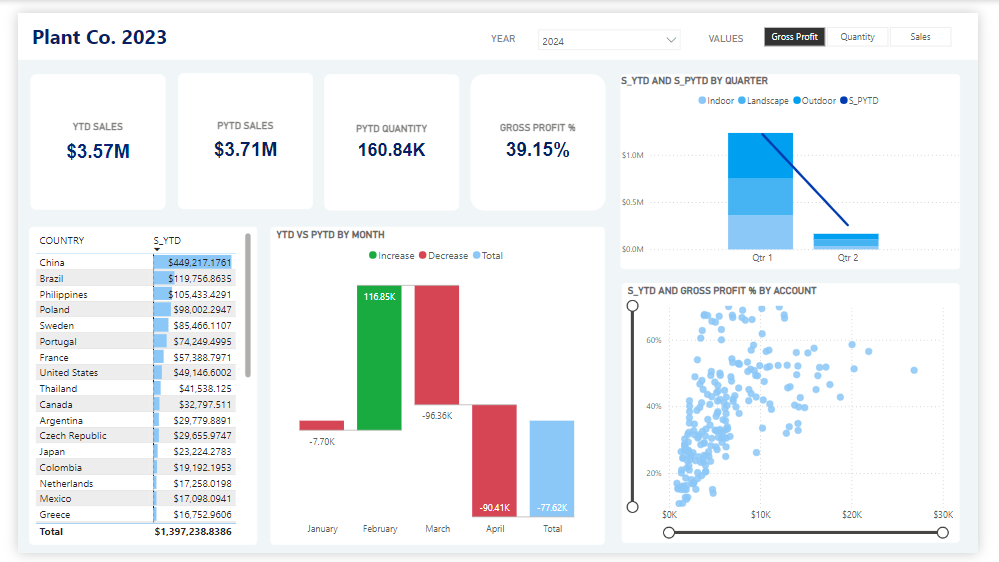

The page's visual inventory and layout, read from the dashboard file:
{"tool":"powerbi","page":{"name":"Page 1","canvas":[1280,720],"ordinal":0},"visuals":[{"type":"shape","box":[0,0,1280,62.5],"z":0},{"type":"cardVisual","fields":{"Data":["_Measure.YTD_Sales"]},"box":[17,81,180,181],"z":1000},{"type":"cardVisual","fields":{"Data":["_Measure.PYTD_Sales"]},"box":[212.6,80,180,181.2],"z":2000},{"type":"cardVisual","fields":{"Data":["_Measure.PYTD_Quantity"]},"box":[408.2,81.2,180,181.2],"z":3000},{"type":"slicer","fields":{"Values":["dDate.Date.Variation.Date Hierarchy.Year"]},"box":[683,11,210,42],"z":4000},{"type":"slicer","fields":{"Values":["Slr_Values.Values"]},"box":[968.3,11.7,300,40],"z":5000},{"type":"tableEx","title":"S_YTD BY COUNTRY","fields":{"Values":["dAccounts.country2","_Measure.S_YTD"]},"box":[15.7,284.3,304.3,424.3],"z":6000},{"type":"waterfallChart","title":"YTD VS PYTD BY MONTH","fields":{"Y":["_Measure.YTD vs PYTD"],"Category":["dDate.Date.Variation.Date Hierarchy.Month"]},"box":[337.1,285.7,445.7,424.3],"z":7000},{"type":"lineStackedColumnComboChart","title":"S_YTD AND S_PYTD BY QUARTER","fields":{"Category":["dDate.Date.Variation.Date Hierarchy.Quarter","dDate.Date.Variation.Date Hierarchy.Month"],"Y":["_Measure.S_YTD"],"Y2":["_Measure.S_PYTD"],"Series":["dPlant_Hierarchy.Produt_Type"]},"box":[803.6,81.8,452.7,260],"z":8000},{"type":"cardVisual","fields":{"Data":["_Measure.GP%"]},"box":[603.8,81.2,180,181.2],"z":9000},{"type":"scatterChart","title":"S_YTD AND GROSS PROFIT % BY ACCOUNT","fields":{"X":["_Measure.S_YTD"],"Y":["_Measure.GP%"],"Category":["dAccounts.Account"]},"box":[805,360,450,346.7],"z":10000},{"type":"textbox","box":[620,20,54,36],"z":11000},{"type":"textbox","box":[900.7,19.3,87.9,37.1],"z":11001},{"type":"textbox","box":[14,8,294,62],"z":11002}]}

Visuals, with their boxes in screenshot pixels (x1, y1, x2, y2), scaled from the page's 1280x720 canvas onto the 999x562 screenshot:
shape: bbox=[0, 0, 998, 49]
cardVisual - _Measure.YTD_Sales: bbox=[13, 63, 154, 205]
cardVisual - _Measure.PYTD_Sales: bbox=[166, 62, 306, 204]
cardVisual - _Measure.PYTD_Quantity: bbox=[319, 63, 459, 205]
slicer - dDate.Date.Variation.Date Hierarchy.Year: bbox=[533, 9, 697, 41]
slicer - Slr_Values.Values: bbox=[756, 9, 990, 40]
"S_YTD BY COUNTRY" tableEx: bbox=[12, 222, 250, 553]
"YTD VS PYTD BY MONTH" waterfallChart: bbox=[263, 223, 611, 554]
"S_YTD AND S_PYTD BY QUARTER" lineStackedColumnComboChart: bbox=[627, 64, 981, 267]
cardVisual - _Measure.GP%: bbox=[471, 63, 612, 205]
"S_YTD AND GROSS PROFIT % BY ACCOUNT" scatterChart: bbox=[628, 281, 979, 552]
textbox: bbox=[484, 16, 526, 44]
textbox: bbox=[703, 15, 772, 44]
textbox: bbox=[11, 6, 240, 55]
